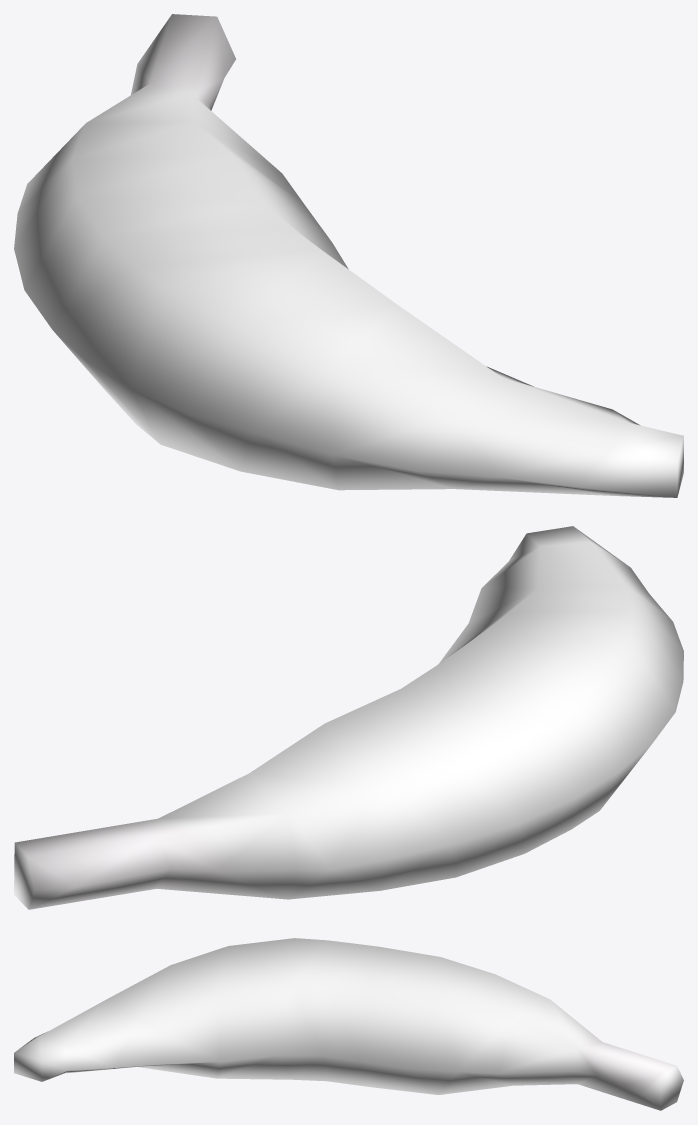
File: Banana.fbx
3 views of the same model, one above another, from view 1: azimuth 30°, elevation 25°; view 2: azimuth 150°, elevation 25°; view 3: azimuth 270°, elevation 25° (orthographic). The views are drawn at different scales.
Visible parts, largest first — view 1: Banana; view 2: Banana; view 3: Banana.
Boxes of the visible parts, x1,y1,x2,y2 form: Banana: (14,14,683,497); Banana: (14,526,683,909); Banana: (14,938,683,1110).
Bounding box in the file's own units: 17.82 × 7.02 × 42.05.
Materials: 1 (1 with a texture image).
